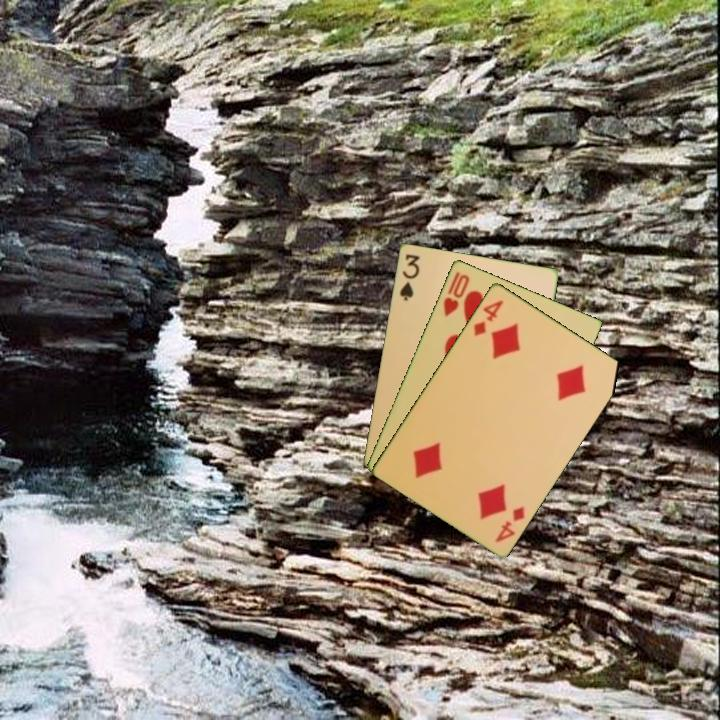10h: (439, 268, 472, 319)
3s: (396, 250, 423, 303)
4d: (491, 502, 528, 545), (470, 296, 506, 339)
